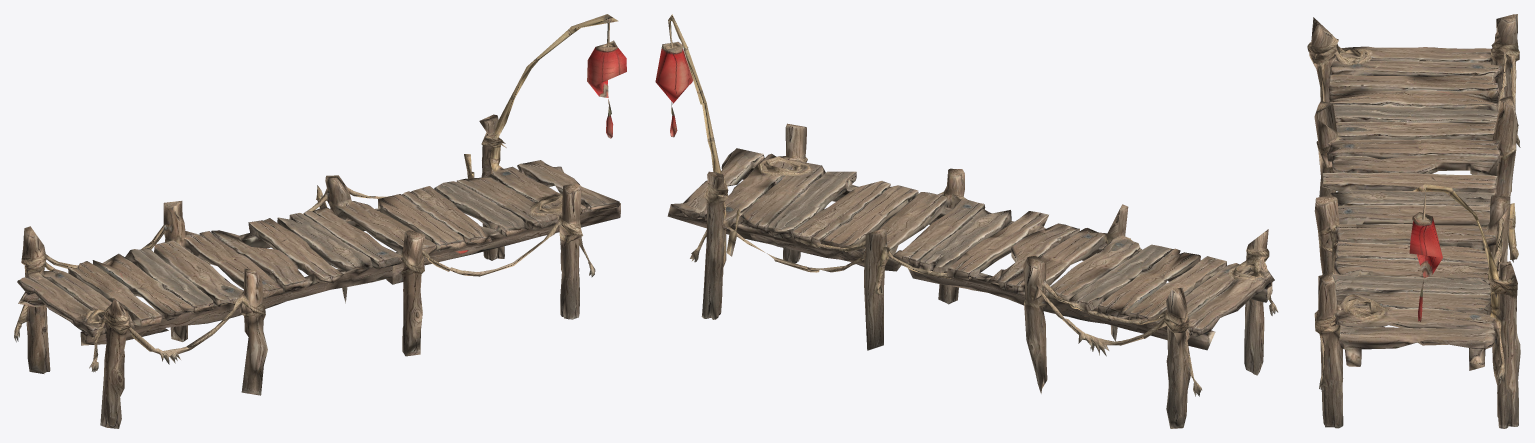
Rendered from cais.glb.
3 renders of one model, left to right at view 1: azimuth 30°, elevation 25°; view 2: azimuth 150°, elevation 25°; view 3: azimuth 270°, elevation 25°, orthographic. The views are drawn at different scales.
Visible parts, largest first — view 1: cais; view 2: cais; view 3: cais.
Boxes of the visible parts, x1,y1,x2,y2 form: cais: (14,14,626,428); cais: (655,14,1278,428); cais: (1307,14,1520,428).
Bounding box in the file's own units: 1.89 × 0.7975 × 0.5424.
Materials: 1 (1 with a texture image).
